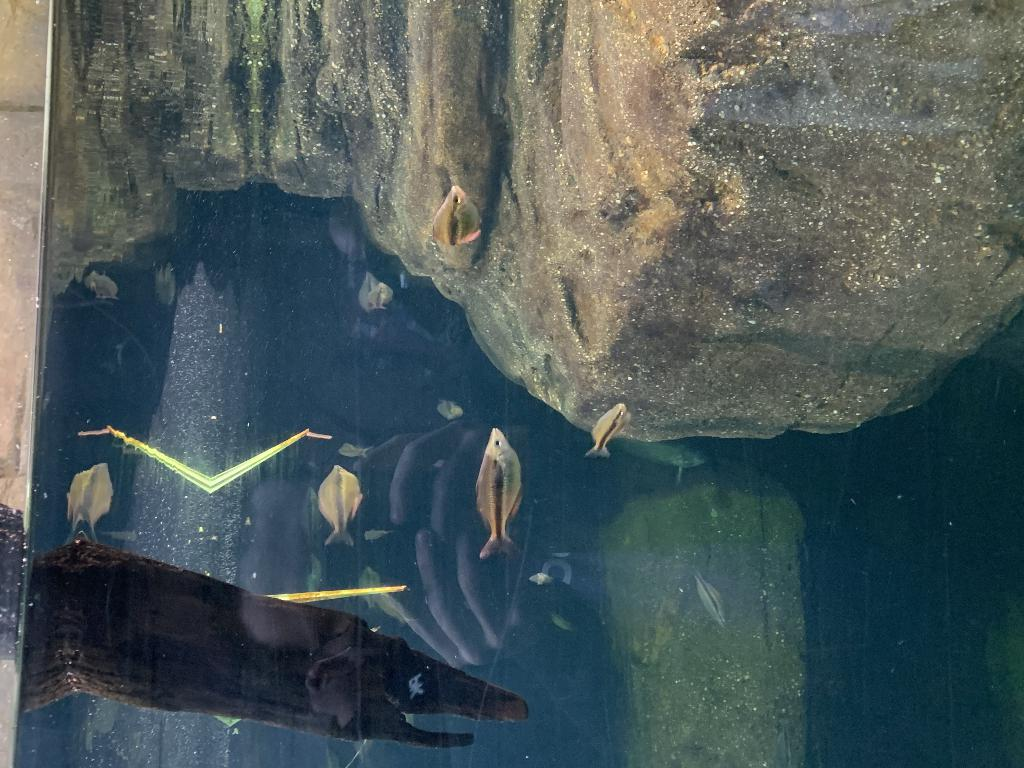fish: (471, 422, 531, 562), (60, 464, 120, 536), (428, 181, 488, 252), (315, 464, 361, 546), (577, 398, 637, 460), (692, 566, 734, 634), (357, 271, 393, 311), (152, 262, 180, 306)
